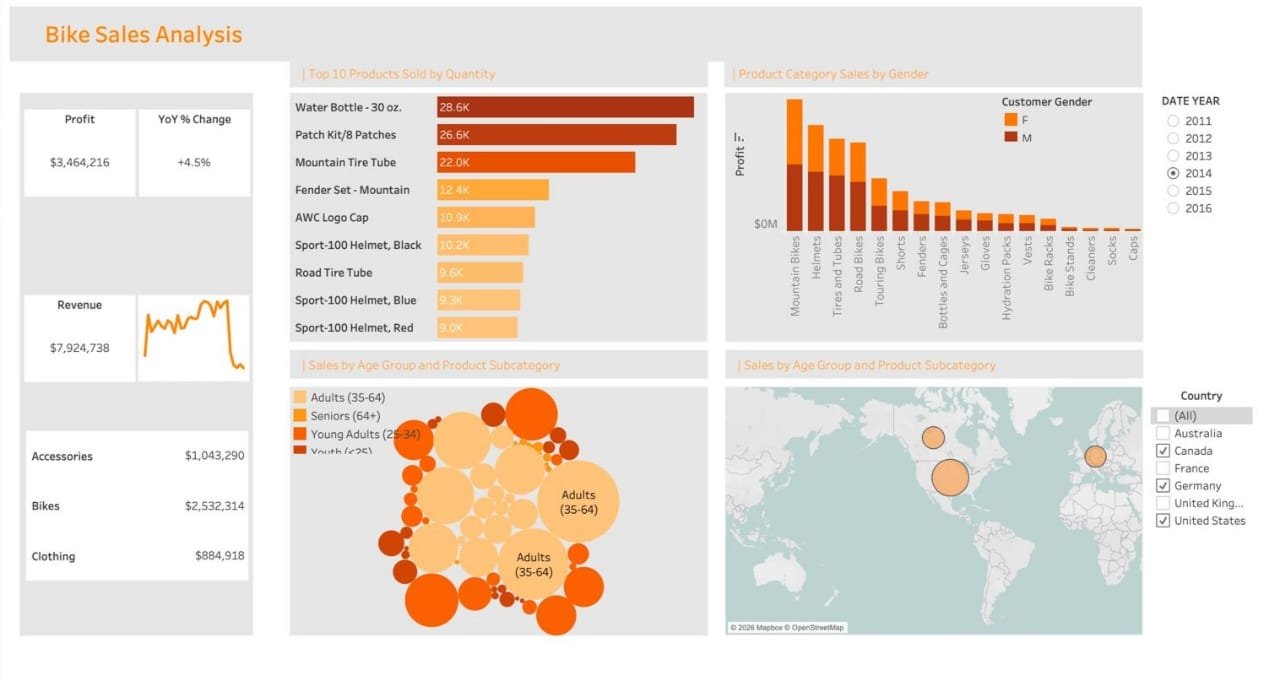

The page's visual inventory and layout, read from the dashboard file:
{"tool":"tableau","page":{"name":"Sales Dashboard","canvas":[1400,750],"ordinal":0},"visuals":[{"type":"title","box":[8,8,1241,68]},{"type":"text","box":[317.3,68.7,455.3,31.6]},{"type":"text","box":[789.6,68.7,455.3,31.6]},{"type":"worksheet","title":"Top 10 Products","mark":"Bar","rows":["Product"],"box":[317.3,105.7,455.3,271.1]},{"type":"worksheet","title":"Sub Category Bar Chart ","mark":"Automatic","rows":["Profit"],"cols":["Sub_Category"],"box":[790.6,105.7,455.3,271.1]},{"type":"parameter","param":"[Parameters].[Parameter 1]","box":[1266,105.7,120.9,190.7]},{"type":"legend","title":"Sub Category Bar Chart ","param":"[federated.1uhaebu05e61gt1ad8c5h1yjvo3l].[none:Customer_Gender:nk]","box":[1091.8,106.6,140,52.4]},{"type":"worksheet","title":"Profit Card","mark":"Automatic","cols":["Calculation_0452956817235969"],"box":[28.2,123.8,120.9,94.9]},{"type":"worksheet","title":"YoY %change","mark":"Automatic","cols":["Calculation_0452956822155273"],"box":[153.1,123.8,120.9,94.9]},{"type":"worksheet","title":"Revenue Card","mark":"Automatic","cols":["Calculation_0452956823531530"],"box":[28.2,326.2,120.9,94.9]},{"type":"worksheet","title":"Revenue Line Chart","mark":"Automatic","rows":["Revenue"],"cols":["Date"],"box":[152.1,326.2,120.9,94.9]},{"type":"text","box":[317.3,385.8,455.3,31.6]},{"type":"text","box":[790.6,385.8,455.3,31.6]},{"type":"worksheet","title":"Age Group Bubble Chart","mark":"Circle","box":[317.3,425.6,455.3,271.1]},{"type":"worksheet","title":"Map","mark":"Automatic","box":[790.6,425.6,455.3,271.1]},{"type":"legend","title":"Age Group Bubble Chart","param":"[federated.1uhaebu05e61gt1ad8c5h1yjvo3l].[none:Age_Group:nk]","box":[318.3,426.5,168.2,72.3]},{"type":"filter","title":"Age Group Bubble Chart","param":"[federated.1uhaebu05e61gt1ad8c5h1yjvo3l].[none:Country:nk]","box":[1254,426.5,110.8,164.5]},{"type":"worksheet","title":"Cost Card","mark":"Automatic","rows":["Product_Category"],"box":[30.2,474.4,241.7,162.7]}]}

Visuals, with their boxes in screenshot pixels (x1, y1, x2, y2), scaled from the page's 1400x750 canvas onto the 1280x681 screenshot:
title: (x1=7, y1=7, x2=1142, y2=69)
text: (x1=290, y1=62, x2=706, y2=91)
text: (x1=722, y1=62, x2=1138, y2=91)
"Top 10 Products" worksheet (Bar marks): (x1=290, y1=96, x2=706, y2=342)
"Sub Category Bar Chart " worksheet: (x1=723, y1=96, x2=1139, y2=342)
parameter: (x1=1157, y1=96, x2=1268, y2=269)
"Sub Category Bar Chart " legend: (x1=998, y1=97, x2=1126, y2=144)
"Profit Card" worksheet: (x1=26, y1=112, x2=136, y2=199)
"YoY %change" worksheet: (x1=140, y1=112, x2=251, y2=199)
"Revenue Card" worksheet: (x1=26, y1=296, x2=136, y2=382)
"Revenue Line Chart" worksheet: (x1=139, y1=296, x2=250, y2=382)
text: (x1=290, y1=350, x2=706, y2=379)
text: (x1=723, y1=350, x2=1139, y2=379)
"Age Group Bubble Chart" worksheet (Circle marks): (x1=290, y1=386, x2=706, y2=633)
"Map" worksheet: (x1=723, y1=386, x2=1139, y2=633)
"Age Group Bubble Chart" legend: (x1=291, y1=387, x2=445, y2=453)
"Age Group Bubble Chart" filter: (x1=1147, y1=387, x2=1248, y2=537)
"Cost Card" worksheet: (x1=28, y1=431, x2=249, y2=578)
